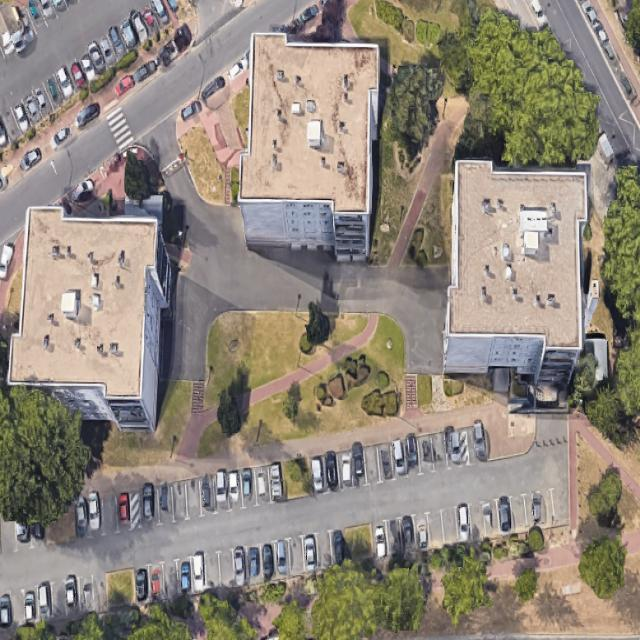immeuble: (426, 157, 616, 406), (2, 202, 178, 433), (232, 31, 383, 263)
